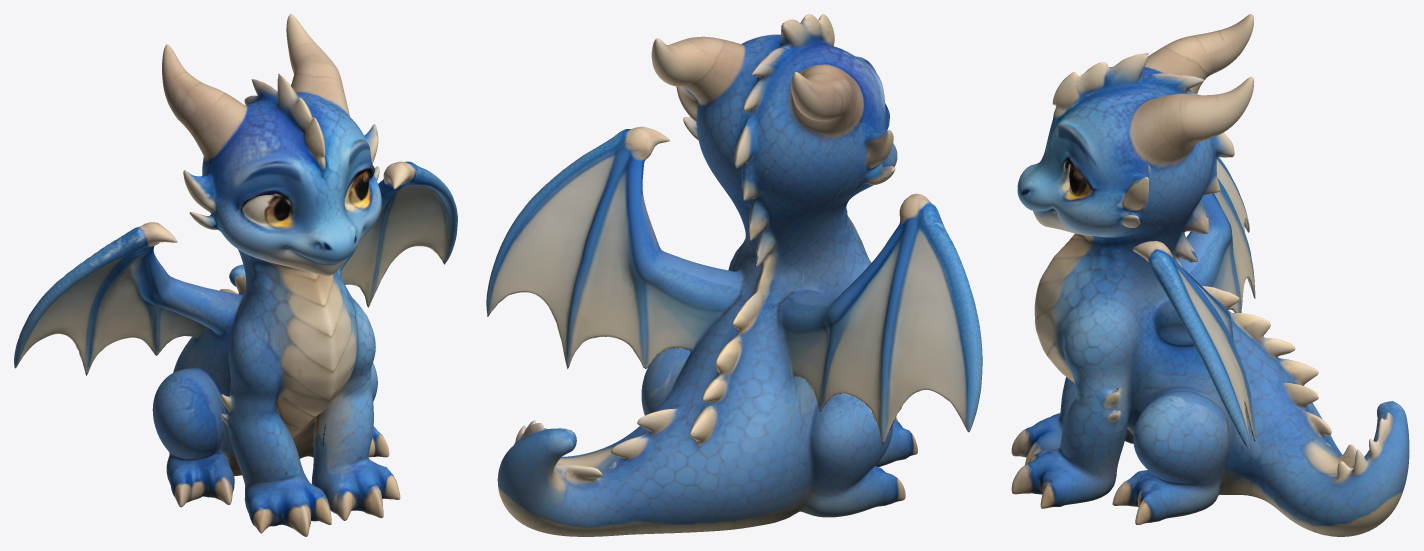
File: cloud-dragon.glb
3 views of the same model, side by side, from view 1: azimuth 30°, elevation 25°; view 2: azimuth 150°, elevation 25°; view 3: azimuth 270°, elevation 25° (orthographic). The views are drawn at different scales.
Visible parts, largest first — view 1: model; view 2: model; view 3: model.
Part boxes in pixels (x1,y1,x2,y2): model: [14, 14, 457, 536]; model: [486, 14, 982, 536]; model: [1011, 14, 1409, 536].
Bounding box in the file's own units: 1.9 × 1.75 × 1.45.
Materials: 1 (1 with a texture image).
